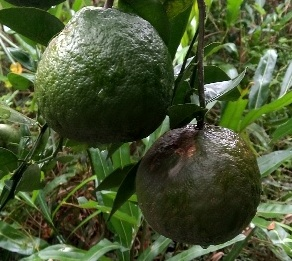Cam: (34, 5, 177, 145), (133, 120, 265, 245)
